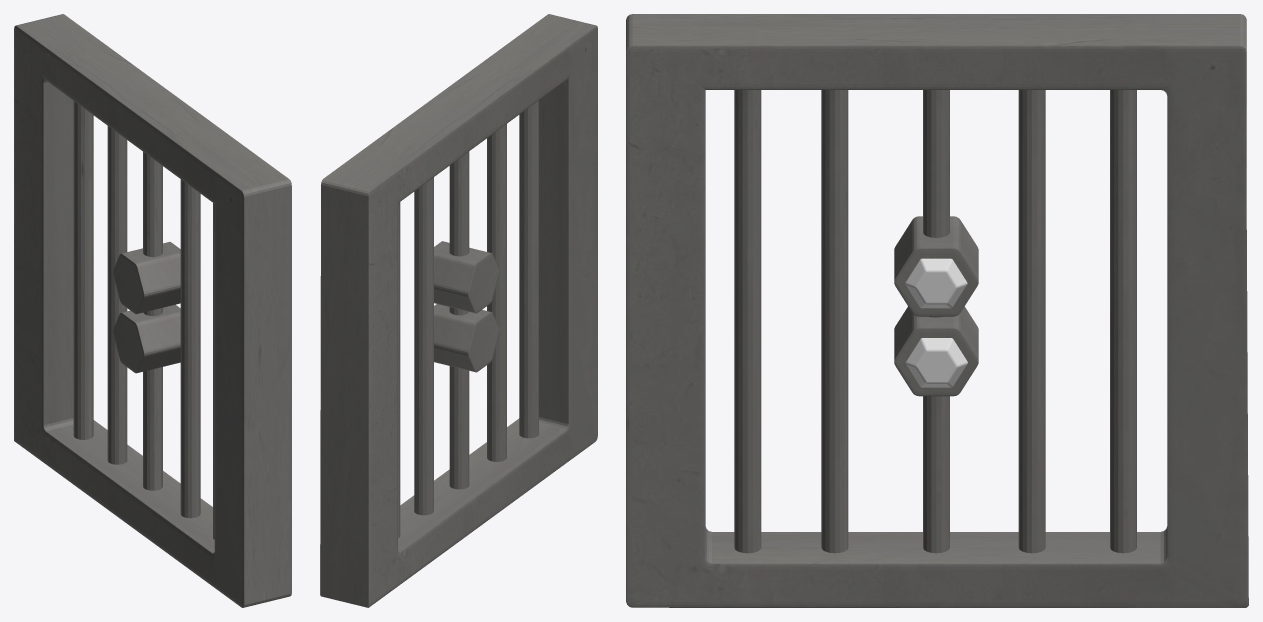
File: twoButtonGate.fbx
3 views of the same model, side by side, from view 1: azimuth 30°, elevation 25°; view 2: azimuth 150°, elevation 25°; view 3: azimuth 270°, elevation 25° (orthographic). The views are drawn at different scales.
Visible parts, largest first — view 1: Cube; view 2: Cube; view 3: Cube, Cylinder, Cylinder.001.
Boxes of the visible parts, x1=… form: Cube: x1=14, y1=14, x2=291, y2=607; Cube: x1=320, y1=14, x2=597, y2=607; Cube: x1=626, y1=14, x2=1248, y2=607; Cylinder: x1=905, y1=258, x2=967, y2=308; Cylinder.001: x1=905, y1=338, x2=967, y2=387.
Size of the model in its own units: 110 by 783 by 786.
